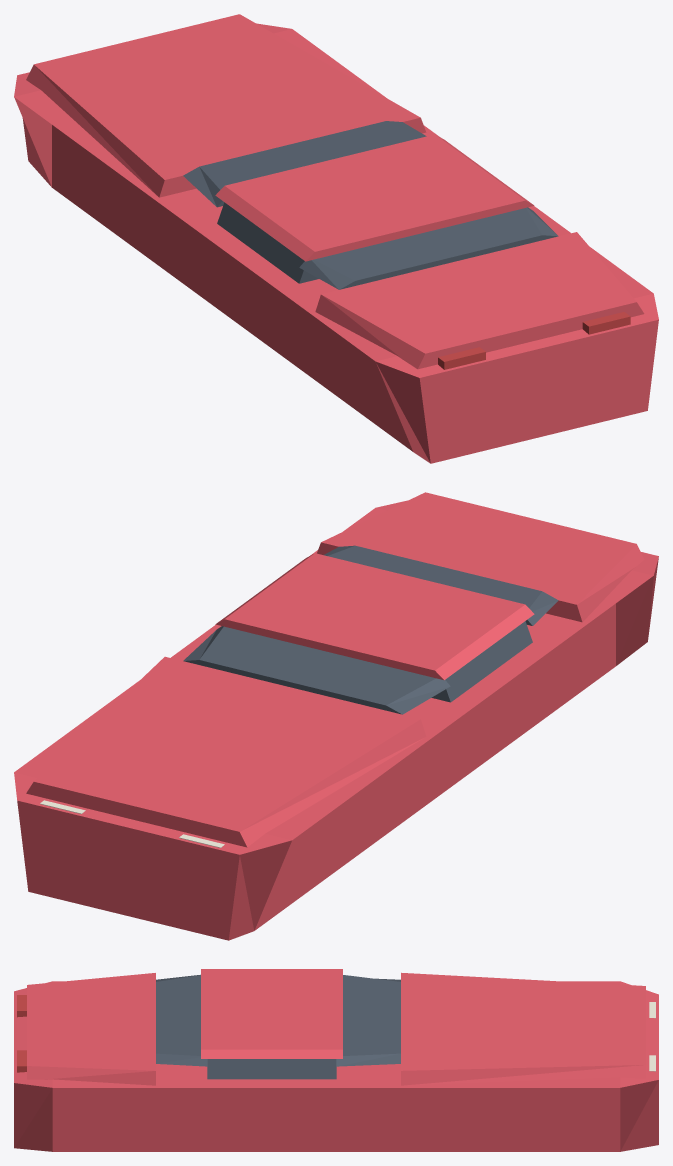
The model's file is sports_rwd.glb.
The picture shows the model from 3 angles, top to bottom: view 1: azimuth 30°, elevation 25°; view 2: azimuth 150°, elevation 25°; view 3: azimuth 270°, elevation 25°; orthographic projection. The views are drawn at different scales.
Parts seen in each view (by area): view 1: Sports RWD; view 2: Sports RWD; view 3: Sports RWD.
Part boxes in pixels (x1,y1,x2,y2): Sports RWD: (14, 14, 658, 463); Sports RWD: (14, 492, 658, 940); Sports RWD: (14, 969, 658, 1151).
Bounding box in the file's own units: 1.76 × 0.799 × 4.5.
